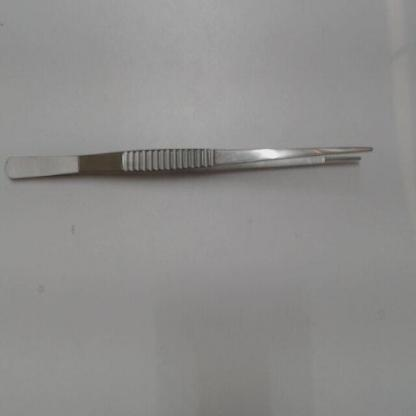DeBakey Dissector: (2, 135, 385, 202)
